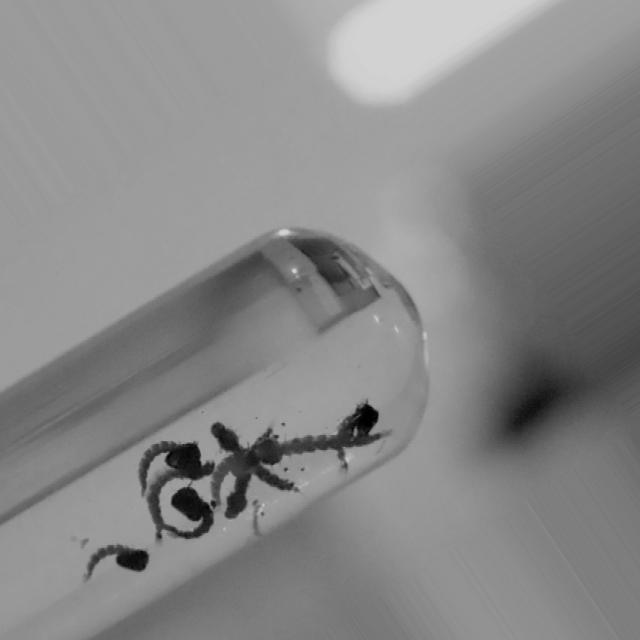larvas: (208, 416, 297, 505), (146, 455, 217, 532), (135, 428, 203, 493), (208, 434, 263, 507), (255, 436, 392, 458), (168, 486, 210, 533), (88, 543, 147, 575), (343, 406, 375, 459), (225, 479, 248, 519), (251, 498, 262, 530)
